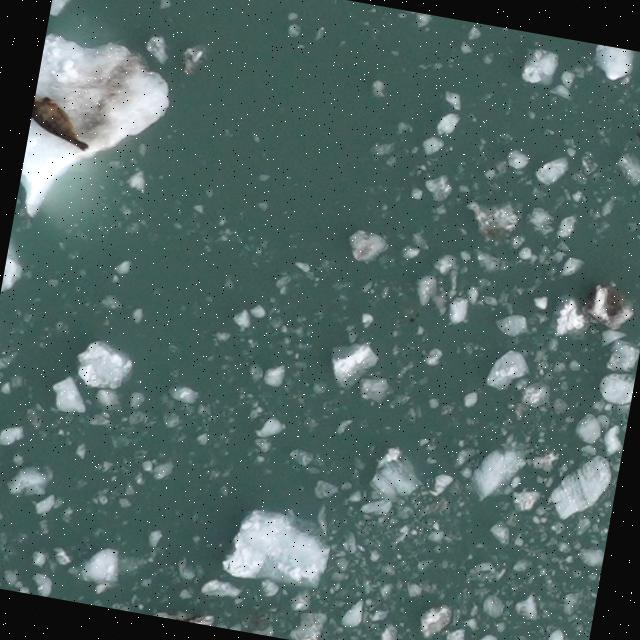seal: (26, 91, 101, 155)
